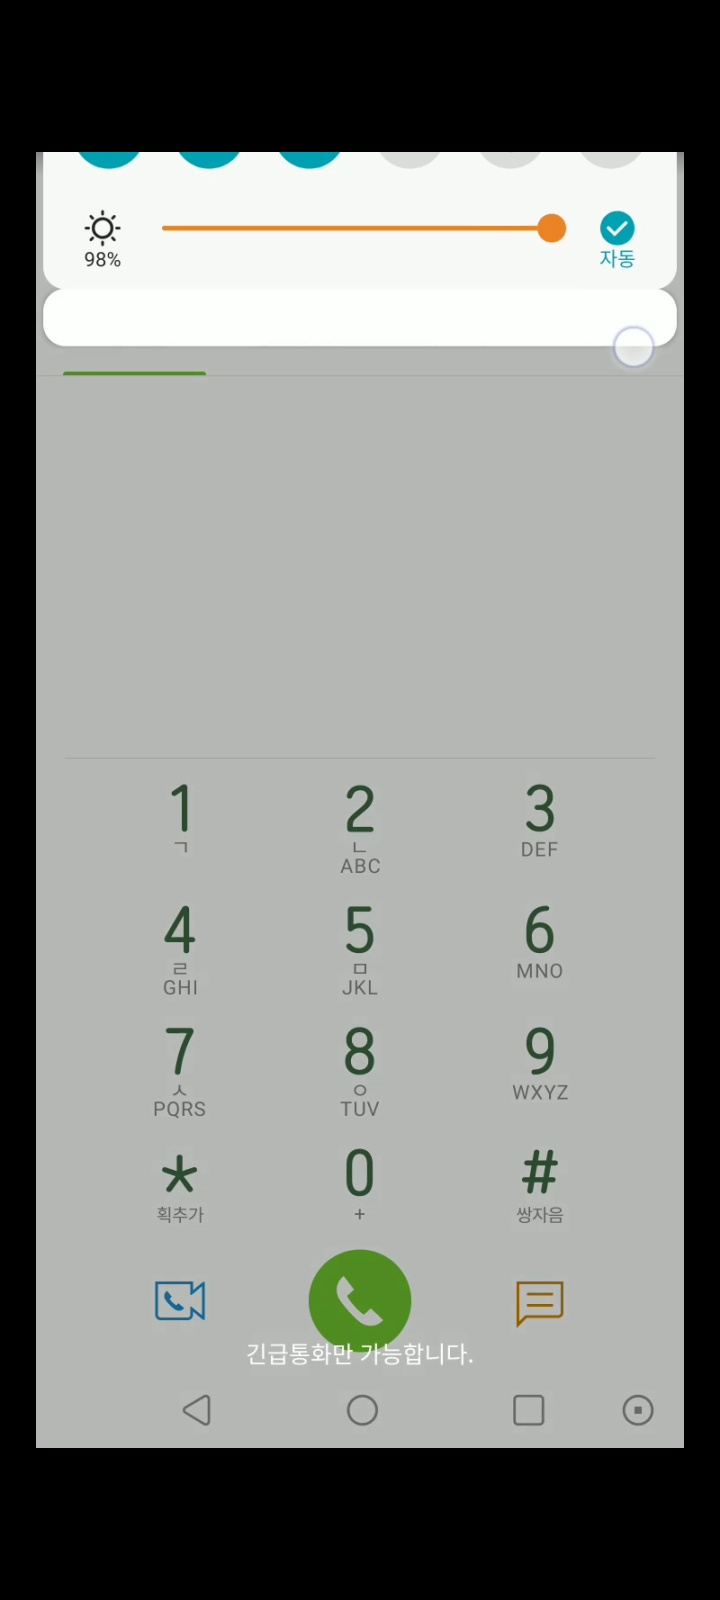Cursor: (612, 324, 657, 369)
